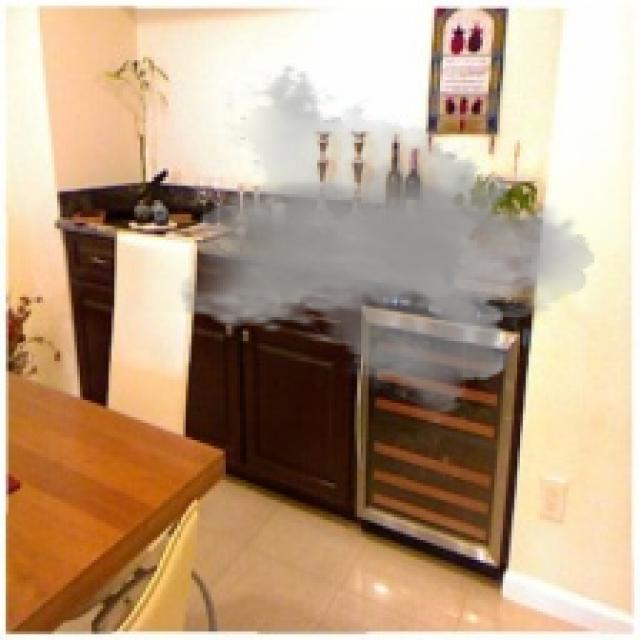smoke: (177, 63, 594, 426)
